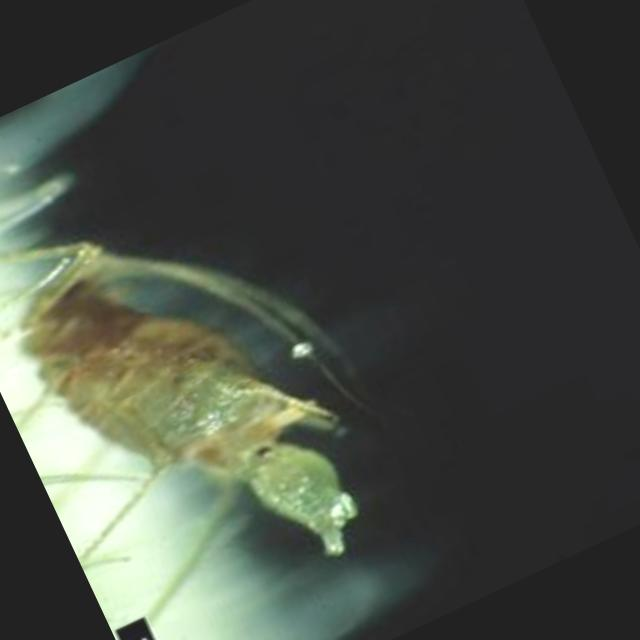Green peach aphid: (0, 36, 519, 640)
